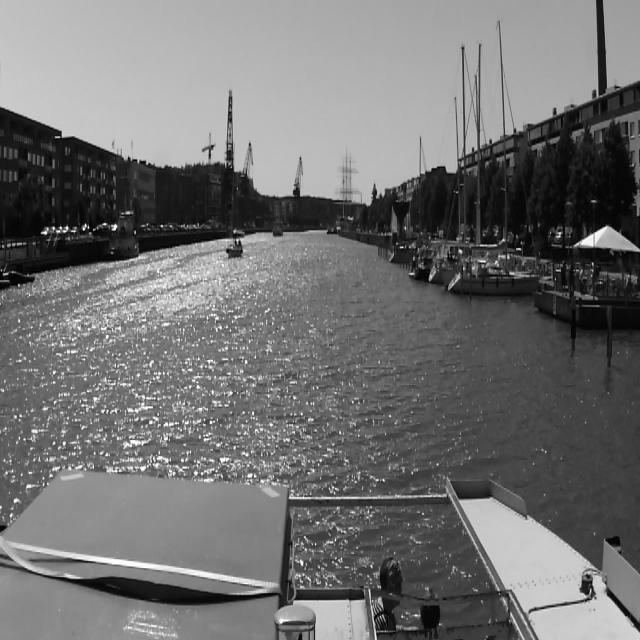ship: (452, 38, 538, 288), (390, 136, 438, 263), (331, 140, 364, 234), (110, 212, 140, 260), (226, 239, 242, 258), (272, 220, 282, 237)
